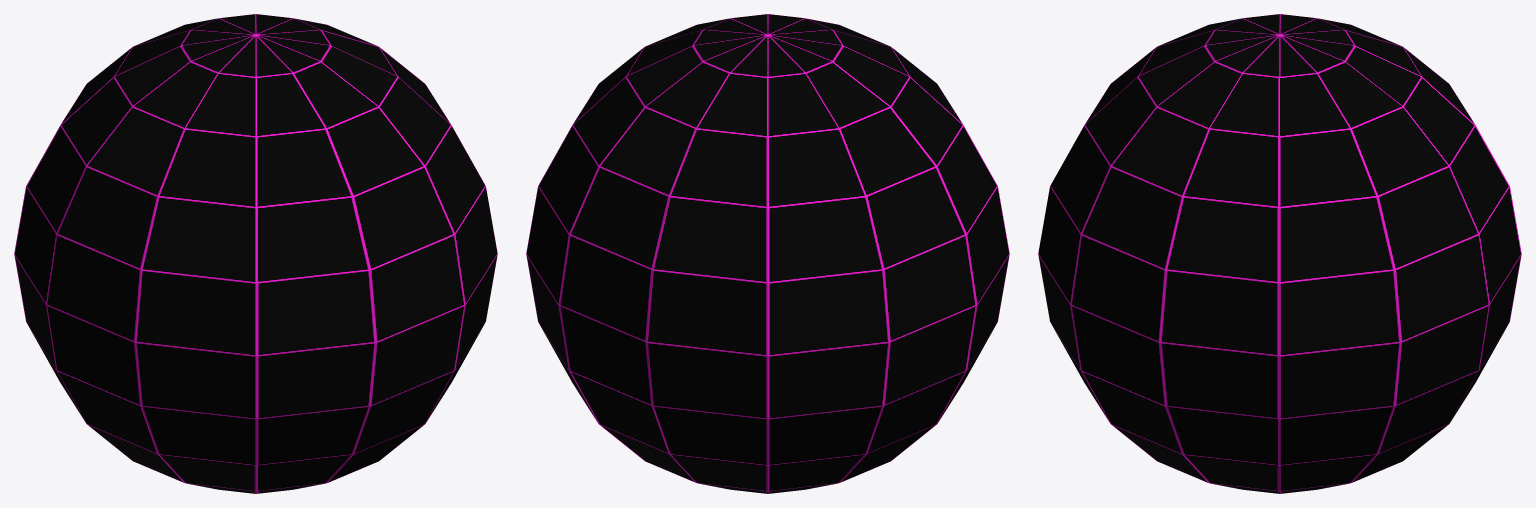
File: Globe.fbx
3 renders of one model, left to right at view 1: azimuth 30°, elevation 25°; view 2: azimuth 150°, elevation 25°; view 3: azimuth 270°, elevation 25°, orthographic.
Visible parts, largest first — view 1: Globe; view 2: Globe; view 3: Globe.
Part boxes in pixels (left/top/right/bottom): Globe: left=14, top=14, right=497, bottom=493; Globe: left=526, top=14, right=1009, bottom=493; Globe: left=1038, top=14, right=1521, bottom=493.
Size of the model in its own units: 2 by 2 by 2.
